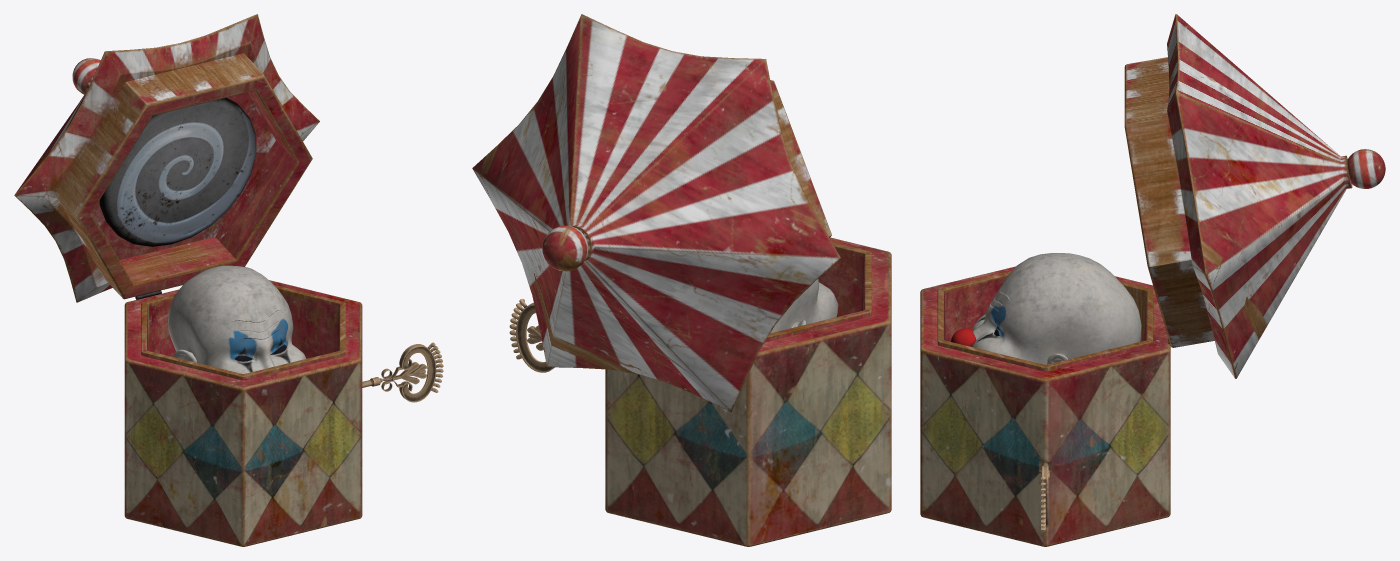
The model's file is music_box.glb.
The picture shows the model from 3 angles, left to right: view 1: azimuth 30°, elevation 25°; view 2: azimuth 150°, elevation 25°; view 3: azimuth 270°, elevation 25°; orthographic projection. The views are drawn at different scales.
Parts seen in each view (by area): view 1: XI_AR_Music_Box.Shape; view 2: XI_AR_Music_Box.Shape; view 3: XI_AR_Music_Box.Shape.
Part boxes in pixels (box(x1,y1,x2,y2)): XI_AR_Music_Box.Shape: box(14, 14, 443, 546); XI_AR_Music_Box.Shape: box(472, 14, 891, 546); XI_AR_Music_Box.Shape: box(920, 14, 1385, 546).
Size of the model in its own units: 0.3574 by 0.4005 by 0.3891.
Materials: 1 (1 with a texture image).
